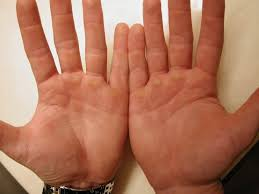palm: (142, 78, 246, 182), (36, 75, 120, 169)
